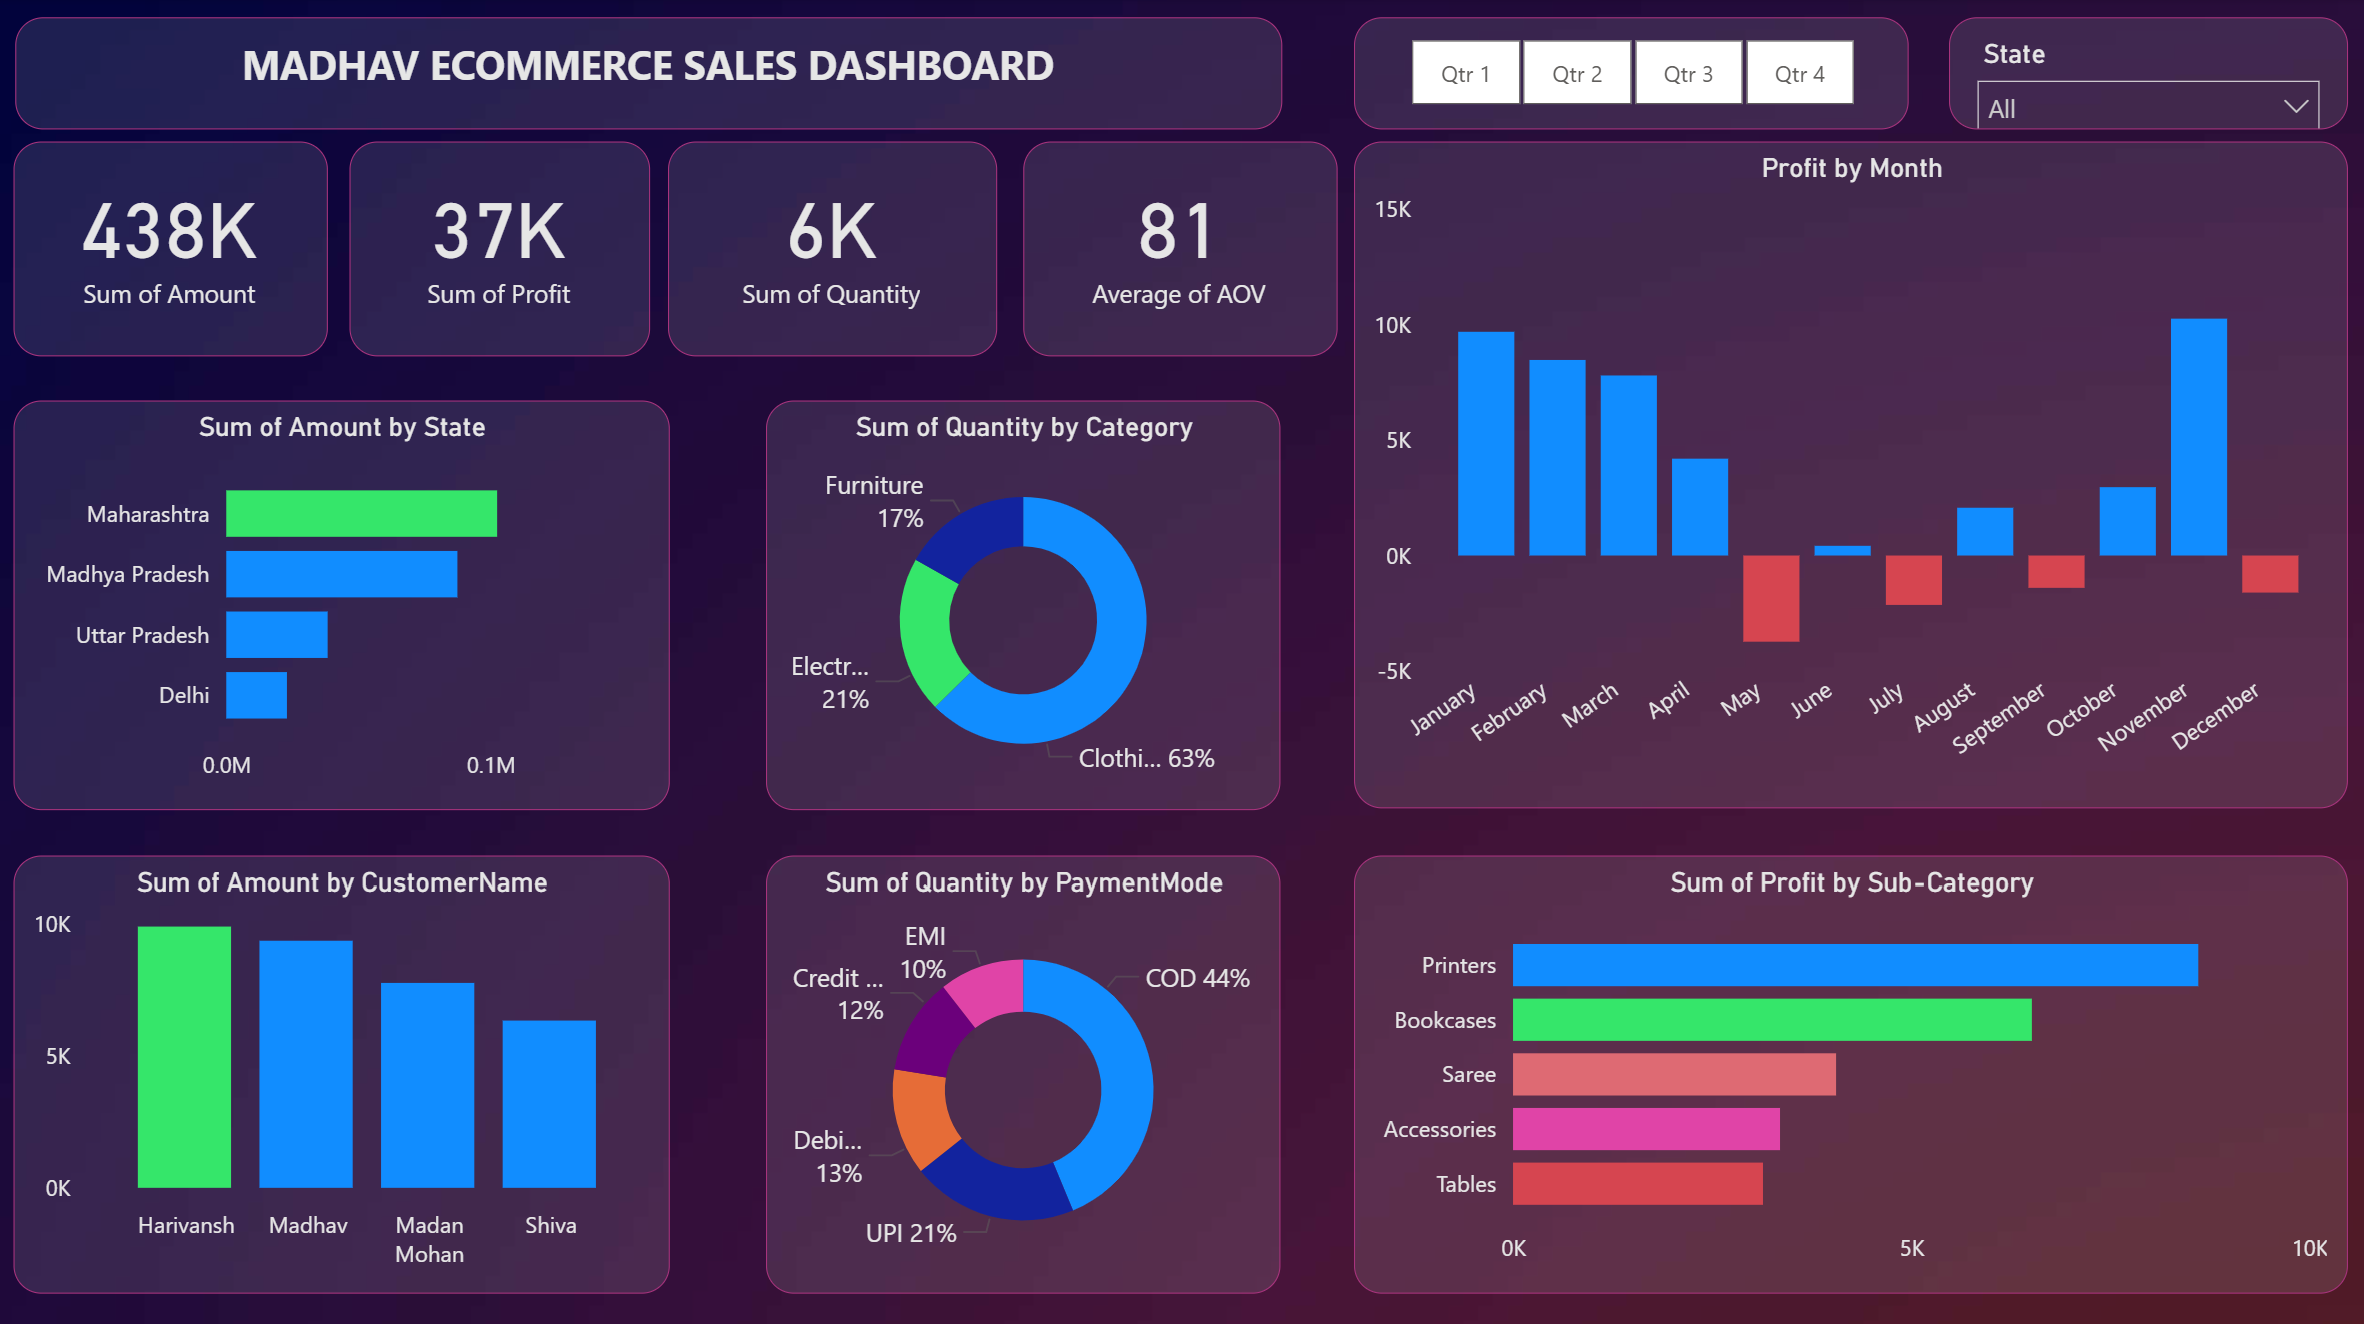

The dashboard page shown, as its layout file describes it:
{"tool":"powerbi","page":{"name":"Page 1","canvas":[1280,720],"ordinal":0},"visuals":[{"type":"textbox","box":[10.4,10.4,684,60.5],"z":0},{"type":"columnChart","title":"Profit by Month","fields":{"Y":["Sum(Details.Profit)"],"Category":["Orders.Order Date.Variation.Date Hierarchy.Month"]},"box":[732.6,77.9,536.8,360],"z":1000},{"type":"barChart","fields":{"Category":["Details.Sub-Category"],"Y":["Sum(Details.Profit)"]},"box":[732.6,463.2,536.8,235.8],"z":2000},{"type":"donutChart","fields":{"Y":["Sum(Details.Quantity)"],"Category":["Details.Category"]},"box":[415.8,216.8,277.9,221.1],"z":3000},{"type":"donutChart","fields":{"Y":["Sum(Details.Quantity)"],"Category":["Details.PaymentMode"]},"box":[415.8,463.2,277.9,235.8],"z":4000},{"type":"cardVisual","fields":{"Data":["Sum(Details.Amount)"]},"box":[9.5,77.9,169.5,115.8],"z":5000},{"type":"cardVisual","fields":{"Data":["Sum(Details.Quantity)"]},"box":[363.2,77.9,177.9,115.8],"z":6000},{"type":"cardVisual","fields":{"Data":["Sum(Details.Profit)"]},"box":[190.5,77.9,162.1,115.8],"z":7000},{"type":"cardVisual","fields":{"Data":["Avg(Details.AOV)"]},"box":[554.7,77.9,169.5,115.8],"z":8000},{"type":"barChart","fields":{"Category":["Orders.State"],"Y":["Sum(Details.Amount)"]},"box":[9,217,354,221],"z":9000},{"type":"columnChart","fields":{"Category":["Orders.CustomerName"],"Y":["Sum(Details.Amount)"]},"box":[9,463,354,236],"z":10000},{"type":"slicer","fields":{"Values":["Orders.State"]},"box":[1054.3,10.4,215.4,60.5],"z":11000},{"type":"slicer","fields":{"Values":["Orders.Order Date.Variation.Date Hierarchy.Quarter"]},"box":[733.1,10.4,299.5,60.5],"z":12000}]}

Visuals, with their boxes in screenshot pixels (x1, y1, x2, y2), scaled from the page's 1280x720 canvas onto the 2364x1324 screenshot:
textbox: <region>19, 19, 1282, 130</region>
"Profit by Month" columnChart: <region>1353, 143, 2344, 805</region>
barChart - Details.Sub-Category x Sum(Details.Profit): <region>1353, 852, 2344, 1285</region>
donutChart - Sum(Details.Quantity) x Details.Category: <region>768, 399, 1281, 805</region>
donutChart - Sum(Details.Quantity) x Details.PaymentMode: <region>768, 852, 1281, 1285</region>
cardVisual - Sum(Details.Amount): <region>18, 143, 331, 356</region>
cardVisual - Sum(Details.Quantity): <region>671, 143, 999, 356</region>
cardVisual - Sum(Details.Profit): <region>352, 143, 651, 356</region>
cardVisual - Avg(Details.AOV): <region>1024, 143, 1338, 356</region>
barChart - Orders.State x Sum(Details.Amount): <region>17, 399, 670, 805</region>
columnChart - Orders.CustomerName x Sum(Details.Amount): <region>17, 851, 670, 1285</region>
slicer - Orders.State: <region>1947, 19, 2345, 130</region>
slicer - Orders.Order Date.Variation.Date Hierarchy.Quarter: <region>1354, 19, 1907, 130</region>
